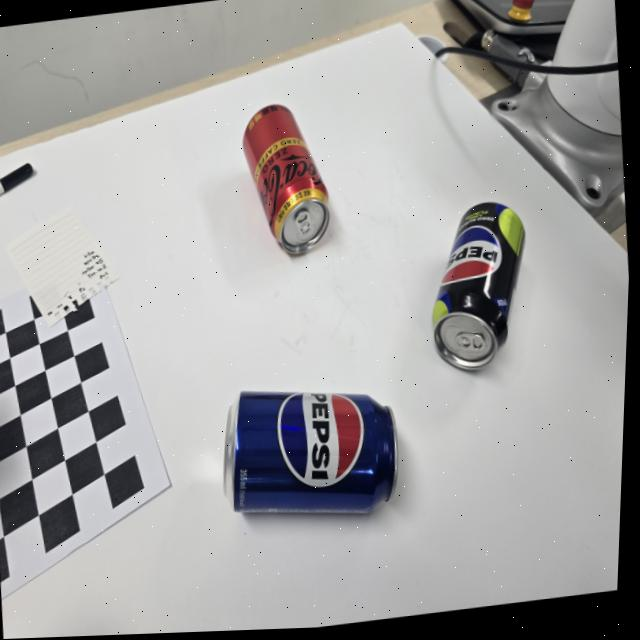can_coke_decaf: (241, 104, 329, 252)
can_pepsi: (219, 388, 400, 515)
can_pepsi_zero: (432, 202, 526, 371)
